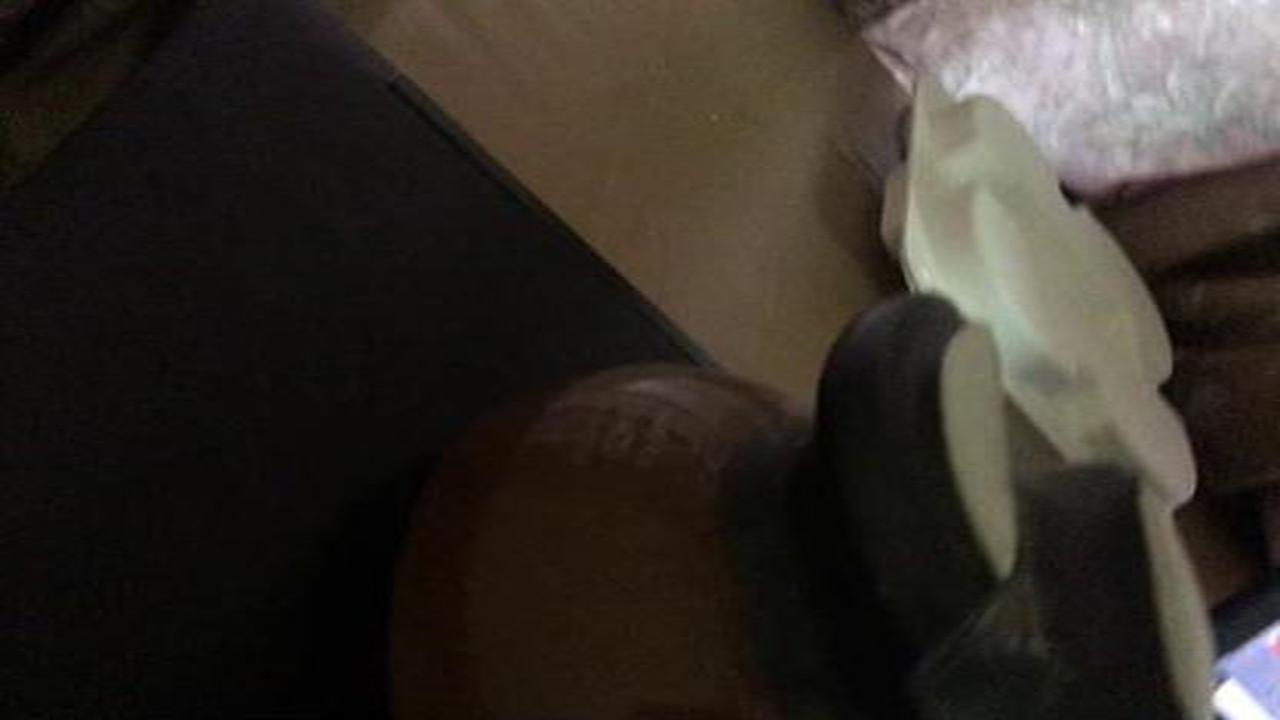insulator_pin: (370, 286, 1234, 719)
